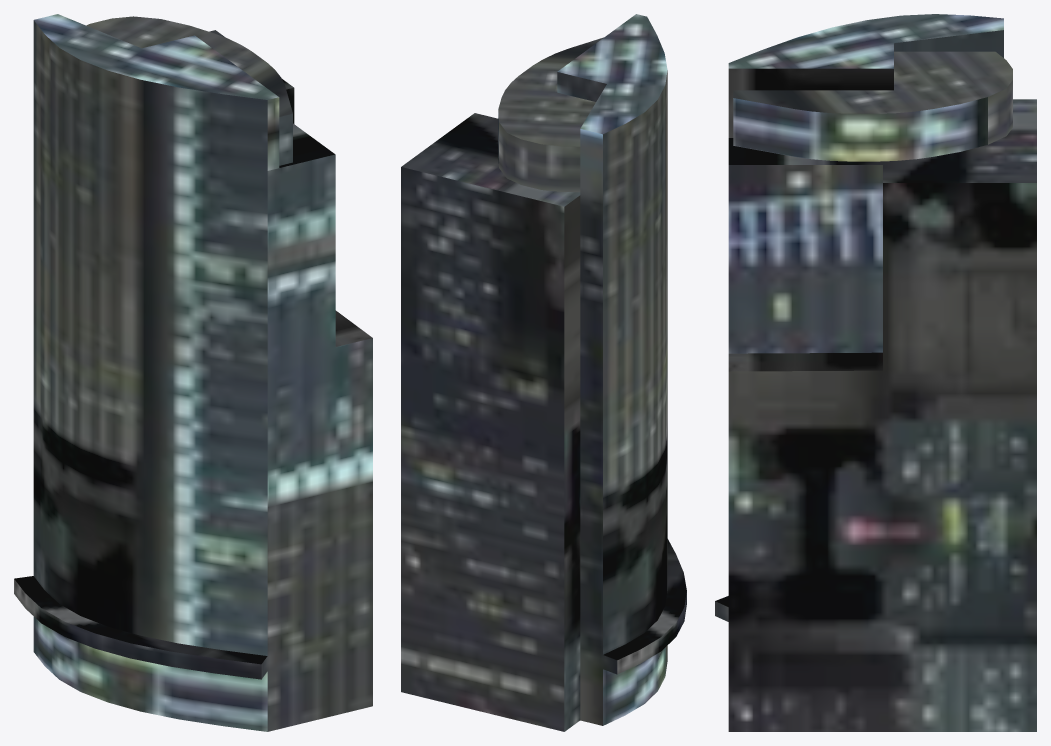
File: night-11.glb
3 views of the same model, side by side, from view 1: azimuth 30°, elevation 25°; view 2: azimuth 150°, elevation 25°; view 3: azimuth 270°, elevation 25° (orthographic). The views are drawn at different scales.
Size of the model in its own units: 3.85 by 10.29 by 4.85.
Materials: 1 (1 with a texture image).
